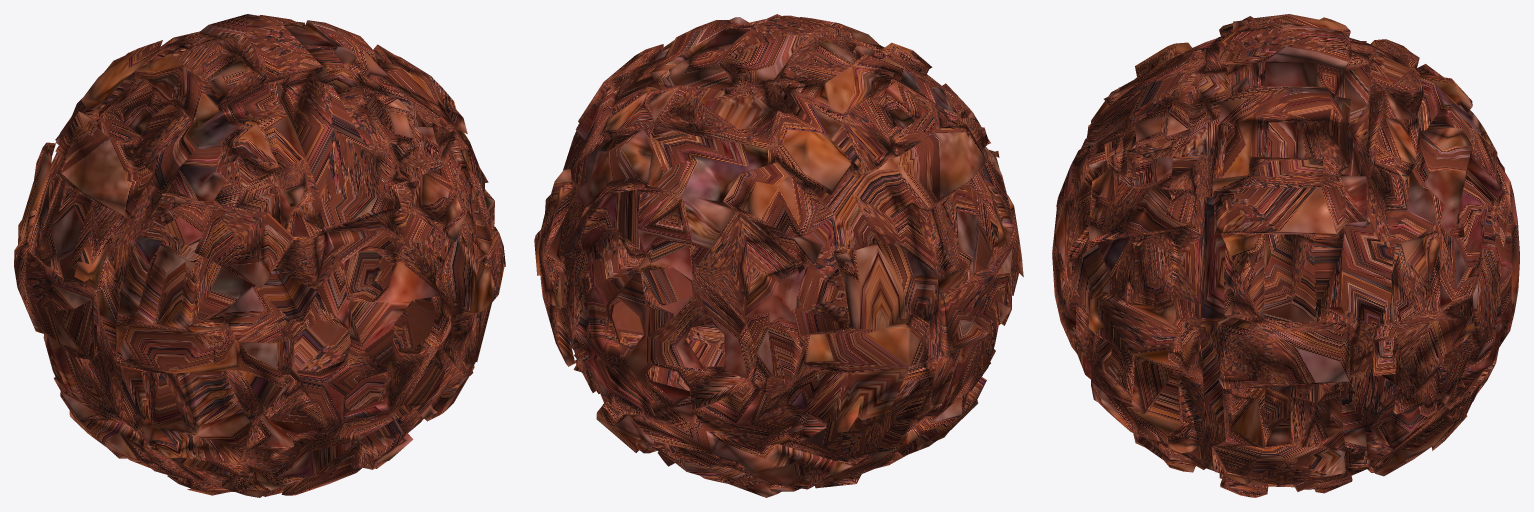
File: bowling-ball.glb
3 renders of one model, left to right at view 1: azimuth 30°, elevation 25°; view 2: azimuth 150°, elevation 25°; view 3: azimuth 270°, elevation 25°, orthographic.
Parts seen in each view (by area): view 1: Mesh_0; view 2: Mesh_0; view 3: Mesh_0.
Part boxes in pixels (box(x1,y1,x2,y2)): Mesh_0: box(14, 14, 505, 497); Mesh_0: box(534, 14, 1023, 497); Mesh_0: box(1052, 14, 1519, 497).
Bounding box in the file's own units: 1.9 × 1.9 × 1.81.
1 material, 1 textured.
